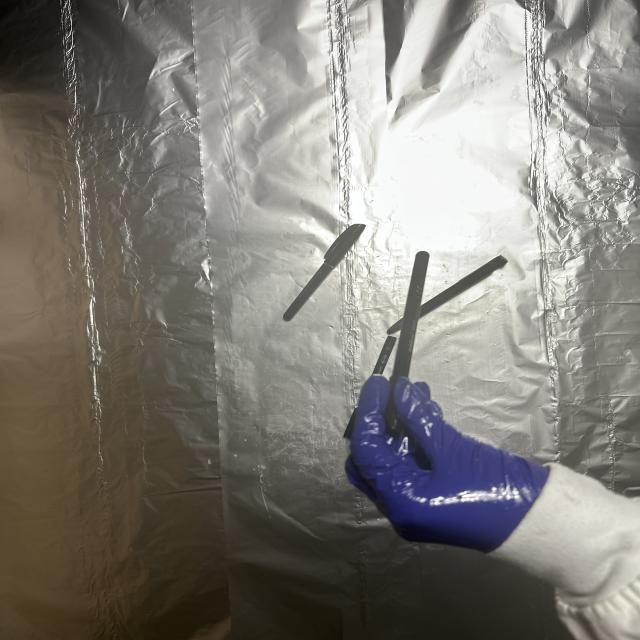gloves_contaminated: (346, 377, 548, 552)
